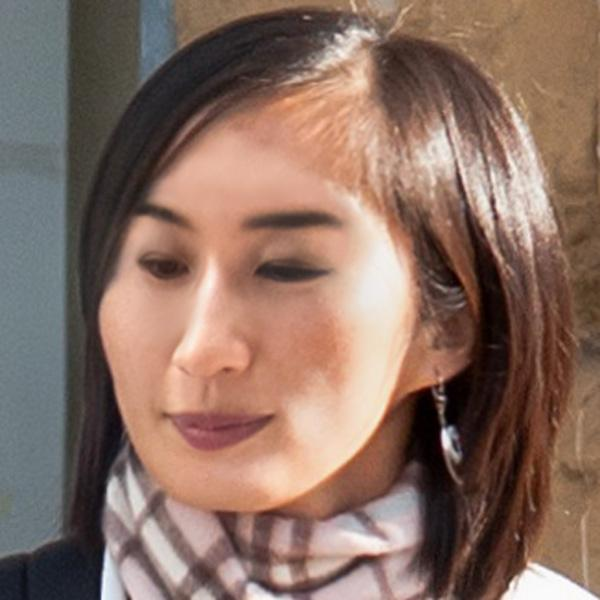Eyes: (249, 239, 336, 296), (127, 235, 198, 292)
